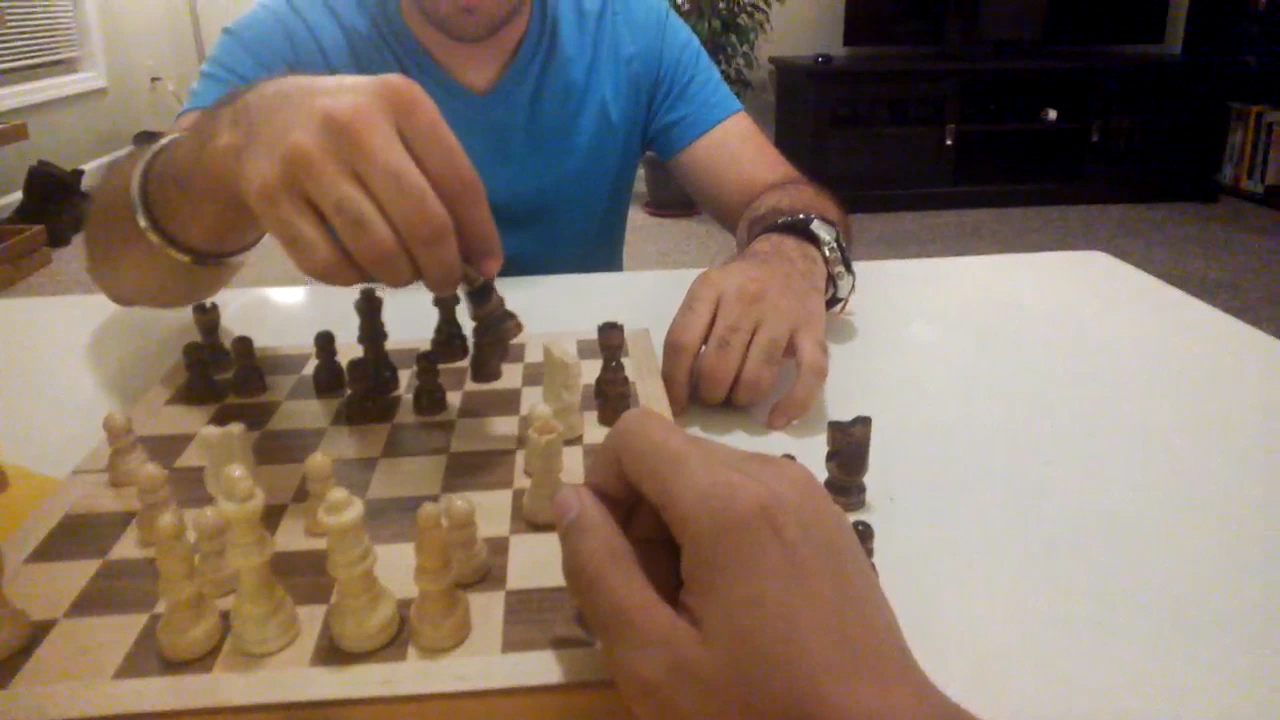hand: (552, 408, 974, 717), (236, 75, 509, 289), (663, 256, 834, 427), (2, 468, 11, 506)
